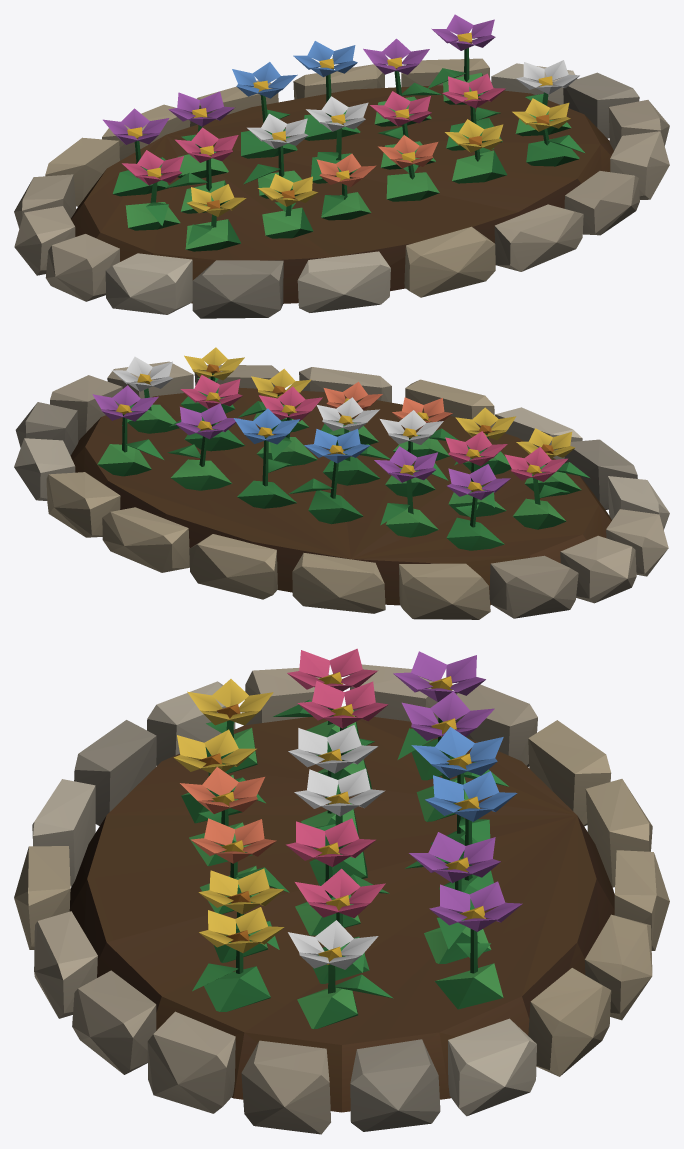
The model's file is flowerbed.glb.
3 renders of one model, top to bottom at view 1: azimuth 30°, elevation 25°; view 2: azimuth 150°, elevation 25°; view 3: azimuth 270°, elevation 25°, orthographic. The views are drawn at different scales.
Parts seen in each view (by area): view 1: base; view 2: base; view 3: base.
Part boxes in pixels (<box>): base: <box>14,14,669,318</box>; base: <box>14,347,669,619</box>; base: <box>14,648,669,1134</box>.
Size of the model in its own units: 1.2 by 0.2137 by 0.789.
